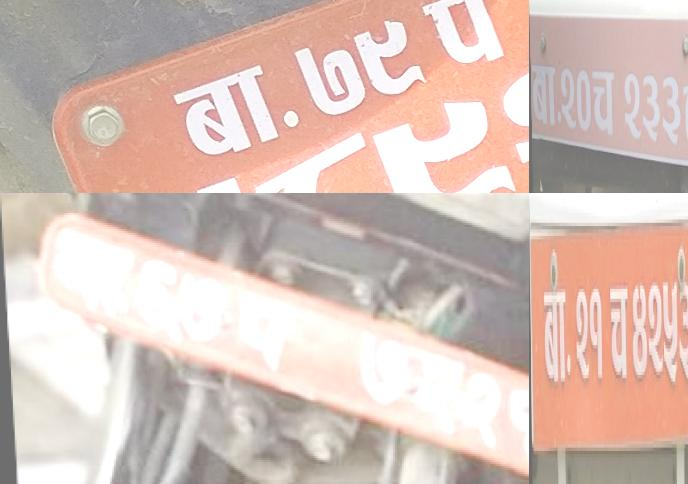0: (575, 60, 592, 133)
1: (497, 380, 529, 465), (588, 276, 604, 391)
2: (452, 355, 504, 458), (410, 353, 456, 438), (497, 54, 529, 175), (573, 282, 590, 392), (647, 276, 663, 391), (621, 64, 642, 144), (558, 58, 576, 135)
3: (660, 70, 682, 150), (640, 66, 660, 147), (678, 269, 688, 398)
4: (630, 279, 648, 385)
5: (661, 269, 679, 395)
6: (131, 253, 182, 344)
7: (286, 39, 366, 118), (339, 331, 413, 412), (176, 261, 232, 350)
8: (247, 130, 397, 193), (680, 69, 688, 152)
9: (365, 95, 517, 193), (349, 18, 425, 98)
ba: (160, 61, 286, 160), (46, 225, 134, 320), (541, 279, 567, 388), (530, 57, 558, 134)
cha: (608, 279, 630, 391), (590, 62, 616, 142)
pa: (413, 0, 506, 71), (234, 289, 303, 380)
